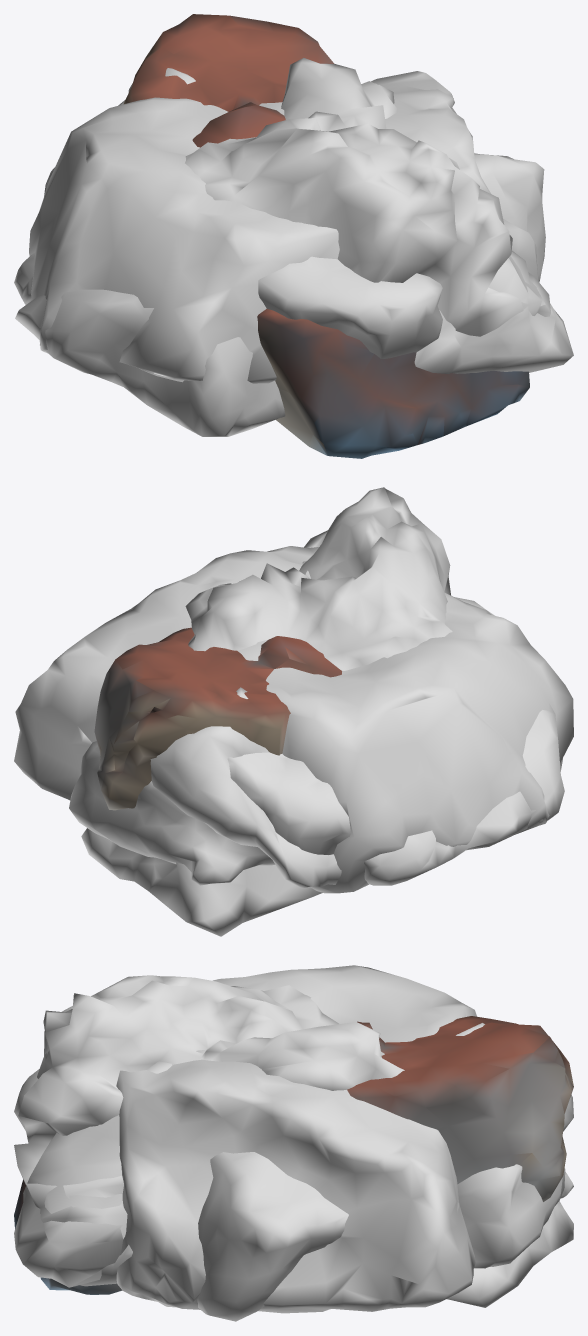
The model's file is studio-rocks.glb.
3 views of the same model, one above another, from view 1: azimuth 30°, elevation 25°; view 2: azimuth 150°, elevation 25°; view 3: azimuth 270°, elevation 25° (orthographic). The views are drawn at different scales.
Parts seen in each view (by area): view 1: RockShoreB, RockBoulderA, RockBoulderB, RockShoreA, RockCliffB, RockCliffA; view 2: RockShoreB, RockBoulderA, RockBoulderB, RockCliffB, RockCliffA, RockShoreA; view 3: RockShoreB, RockBoulderA, RockBoulderB, RockShoreA, RockCliffA, RockCliffB.
Part boxes in pixels (left/top/right/bottom): RockShoreB: left=29, top=71, right=538, bottom=383; RockBoulderA: left=185, top=58, right=550, bottom=336; RockBoulderB: left=123, top=14, right=529, bottom=458; RockShoreA: left=14, top=153, right=545, bottom=436; RockCliffB: left=44, top=101, right=442, bottom=358; RockCliffA: left=118, top=68, right=573, bottom=373; RockShoreB: left=14, top=546, right=573, bottom=893; RockBoulderA: left=81, top=487, right=452, bottom=936; RockBoulderB: left=94, top=627, right=341, bottom=810; RockCliffB: left=69, top=597, right=494, bottom=885; RockCliffA: left=150, top=561, right=341, bottom=888; RockShoreA: left=364, top=703, right=564, bottom=885; RockShoreB: left=116, top=965, right=476, bottom=1313; RockBoulderA: left=14, top=975, right=573, bottom=1307; RockBoulderB: left=14, top=1016, right=573, bottom=1294; RockShoreA: left=197, top=1152, right=348, bottom=1321; RockCliffA: left=14, top=1023, right=573, bottom=1287; RockCliffB: left=14, top=1069, right=573, bottom=1268.
Size of the model in its own units: 1 by 0.5537 by 1.
